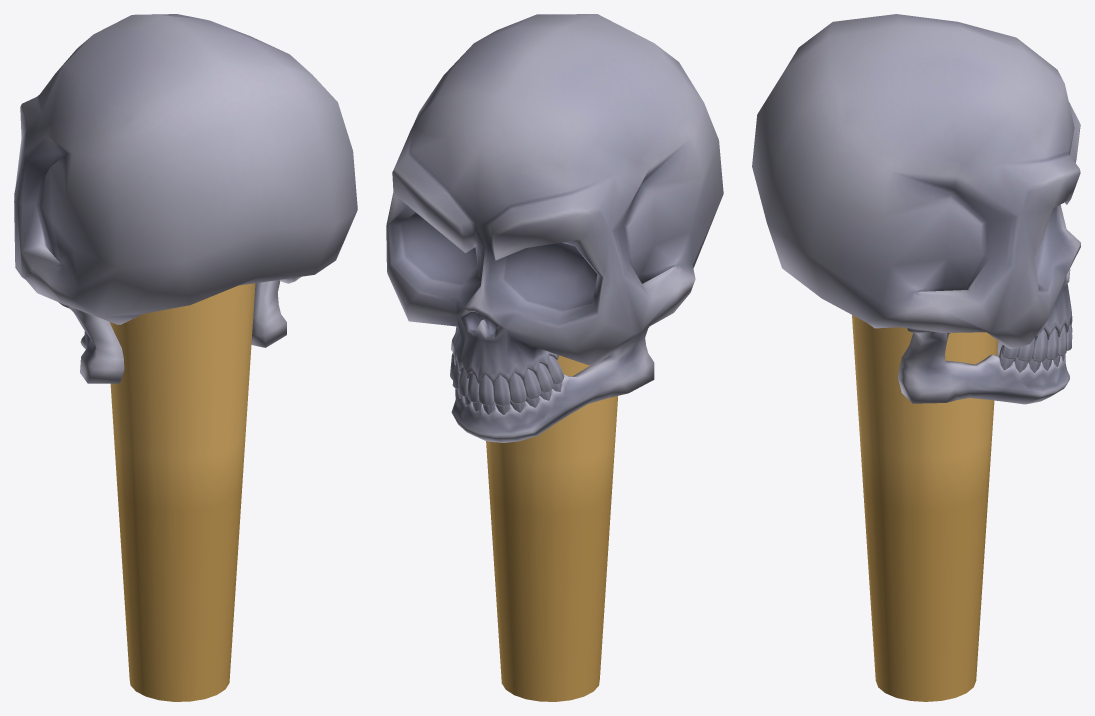
File: Skull Knob.fbx
The picture shows the model from 3 angles, left to right: view 1: azimuth 30°, elevation 25°; view 2: azimuth 150°, elevation 25°; view 3: azimuth 270°, elevation 25°; orthographic projection.
Visible parts, largest first — view 1: Skull, Skull_Gear; view 2: Skull, Skull_Gear; view 3: Skull, Skull_Gear.
Part boxes in pixels (x1,y1,x2,y2): Skull: (14, 14, 357, 383); Skull_Gear: (109, 283, 255, 701); Skull: (386, 14, 723, 442); Skull_Gear: (486, 355, 617, 701); Skull: (752, 14, 1080, 404); Skull_Gear: (852, 315, 998, 701).
Bounding box in the file's own units: 29.15 × 65.03 × 29.56.
